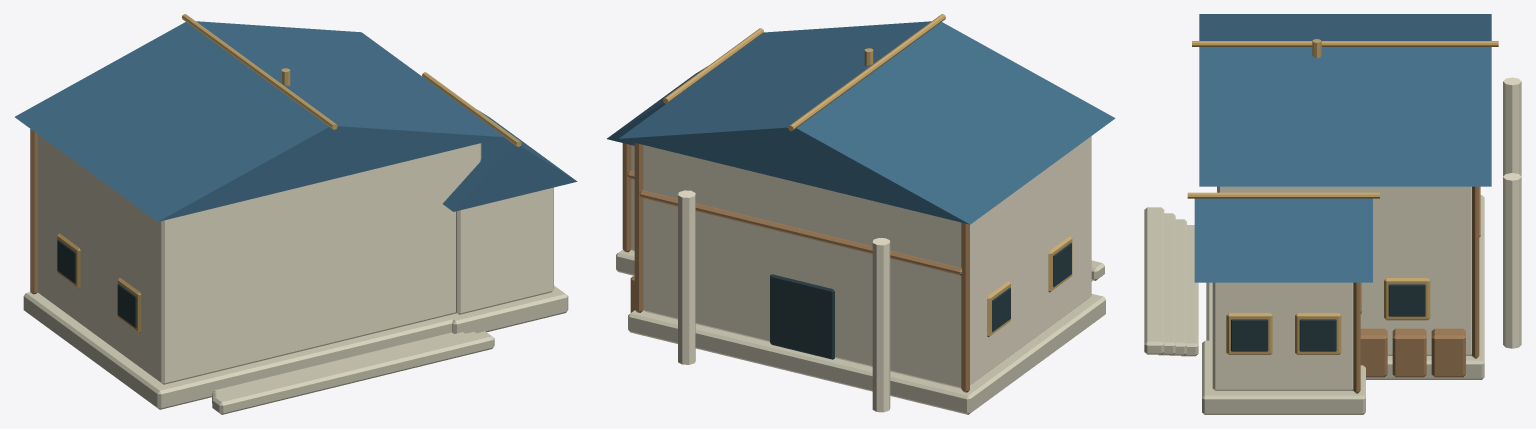
The model's file is level_26.glb.
The picture shows the model from 3 angles, left to right: view 1: azimuth 30°, elevation 25°; view 2: azimuth 150°, elevation 25°; view 3: azimuth 270°, elevation 25°; orthographic projection.
Visible parts, largest first — view 1: warehouse — level 26; view 2: warehouse — level 26; view 3: warehouse — level 26.
Part boxes in pixels (x1,y1,x2,y2): warehouse — level 26: [15, 14, 577, 414]; warehouse — level 26: [607, 14, 1115, 414]; warehouse — level 26: [1144, 14, 1521, 414].
Size of the model in its own units: 6.89 by 4.06 by 5.29.
